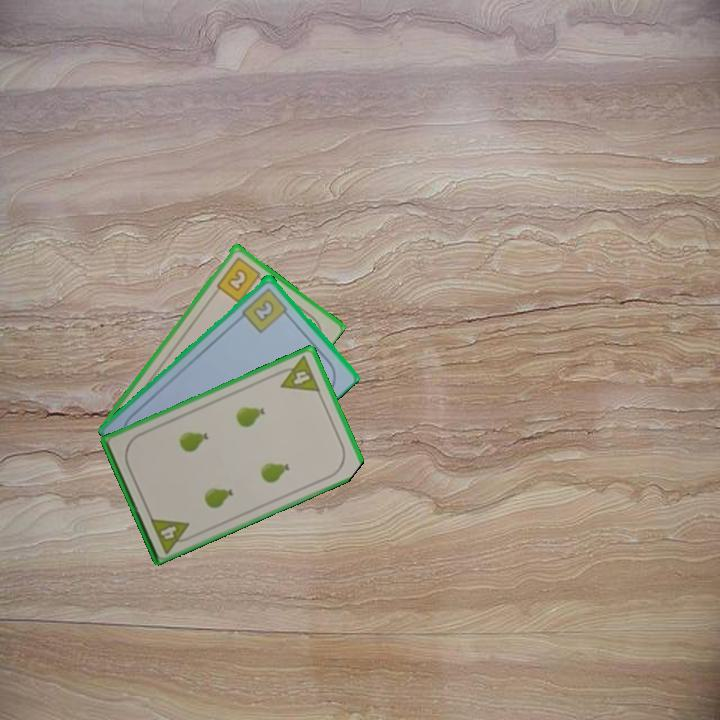2b: (213, 253, 267, 305), (239, 284, 293, 335)
4p: (272, 352, 323, 395), (146, 513, 196, 556)
